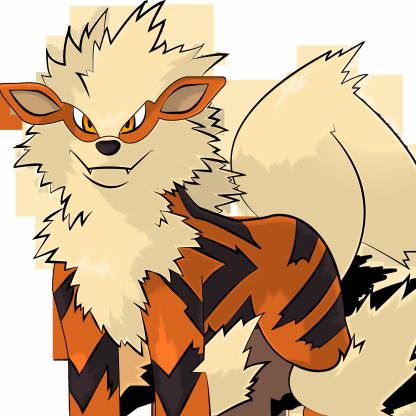Arcanine: (1, 11, 416, 416)
